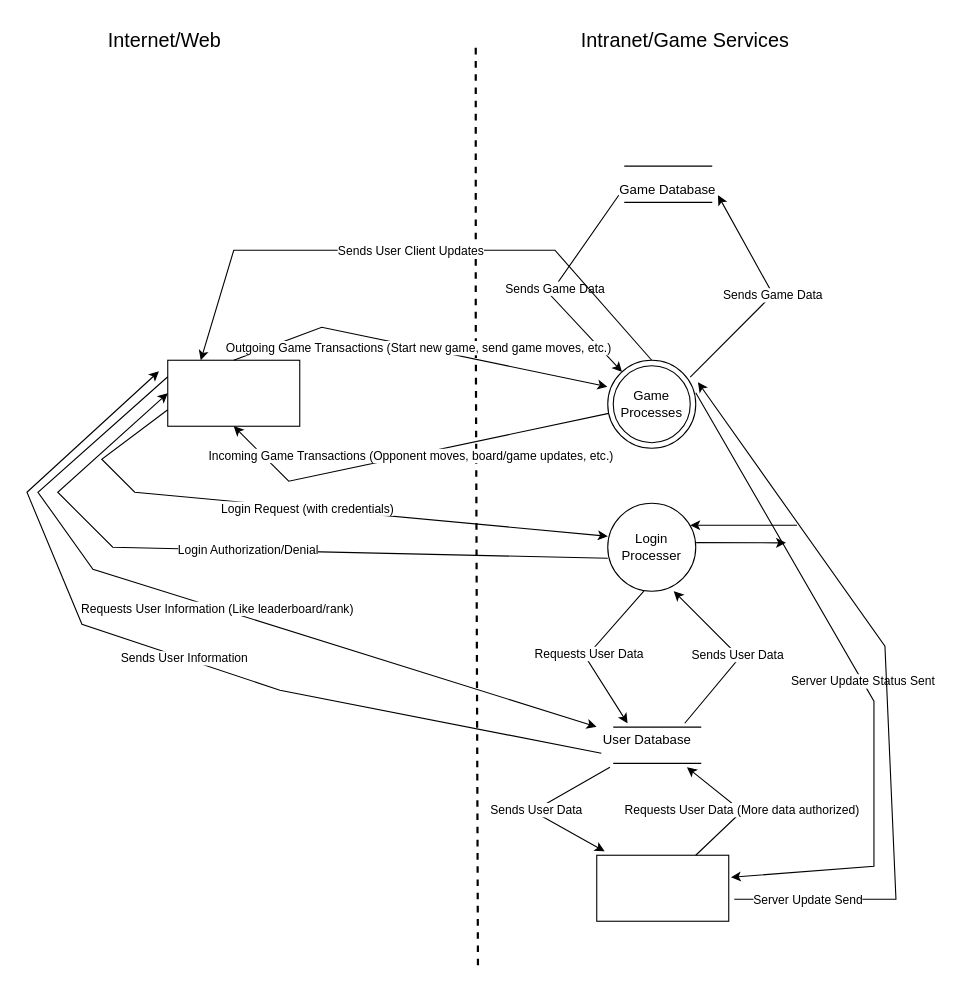
Some shapes in this 954 by 986 pixel diagram are drawn without their labels. The centre of each missing label's shape, as x and y in pixels:
"Admins/Developers" belongs at (x=662, y=887).
"Customer Users" belongs at (x=233, y=392).
